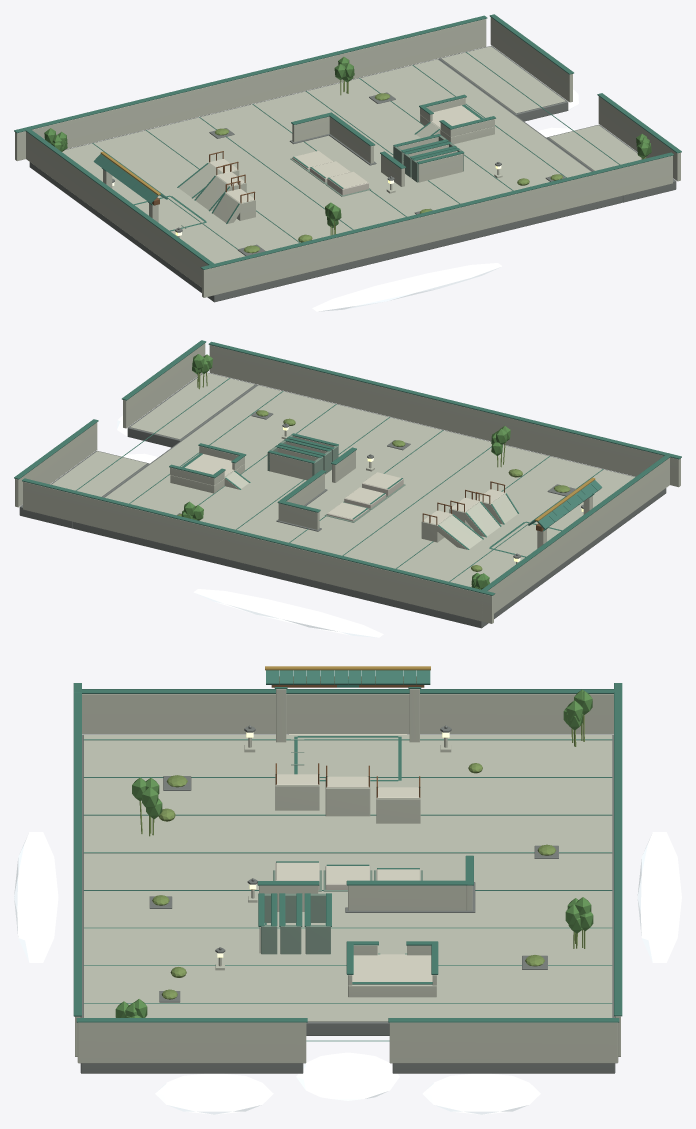
Rendered from ground_contact_course.glb.
3 renders of one model, top to bottom at view 1: azimuth 30°, elevation 25°; view 2: azimuth 150°, elevation 25°; view 3: azimuth 270°, elevation 25°, orthographic. The views are drawn at different scales.
Parts seen in each view (by area): view 1: ground_ground_main_top, wall_south, wall_north, wall_west, ground_ground_main, ground_ground_east_n_top, mist_04, wall_east_n, ground_ground_east_s_top, wall_north_cap, wall_south_cap, wall_east_s (+14 smaller); view 2: ground_ground_main_top, wall_north, wall_south, wall_west, ground_ground_main, ground_ground_east_s_top, mist_03, ground_ground_east_n_top, wall_east_s, wall_north_cap, wall_south_cap, wall_east_n (+14 smaller); view 3: ground_ground_main_top, wall_west, wall_east_n, wall_east_s, mist_03, mist_04, mist_00, mist_01, mist_02, corner_inner_x, wall_north_cap, wall_south_cap (+21 smaller).
Boxes of the visible parts, box(x1,y1,x2,y2) form: ground_ground_main_top: box(62, 59, 590, 263); wall_south: box(202, 155, 672, 297); wall_north: box(15, 19, 486, 160); wall_west: box(26, 131, 214, 287); ground_ground_main: box(29, 59, 622, 302); ground_ground_east_n_top: box(441, 46, 565, 113); mist_04: box(312, 263, 502, 311); wall_east_n: box(490, 17, 572, 102); ground_ground_east_s_top: box(549, 125, 673, 180); wall_north_cap: box(14, 15, 487, 133); wall_south_cap: box(200, 152, 673, 269); wall_east_s: box(598, 96, 680, 181); ground_ground_main_top: box(105, 385, 634, 587); wall_north: box(23, 481, 493, 623); wall_south: box(209, 345, 680, 487); wall_west: box(480, 458, 669, 620); ground_ground_main: box(73, 385, 666, 628); ground_ground_east_s_top: box(130, 373, 254, 439); mist_03: box(193, 589, 383, 637); ground_ground_east_n_top: box(22, 451, 146, 506); wall_east_s: box(123, 343, 205, 428); wall_north_cap: box(22, 478, 495, 595); wall_south_cap: box(208, 341, 681, 459); wall_east_n: box(15, 422, 97, 507); ground_ground_main_top: box(83, 735, 612, 1021); wall_west: box(82, 694, 613, 734); wall_east_n: box(389, 1022, 618, 1063); wall_east_s: box(77, 1022, 306, 1063); mist_03: box(637, 832, 681, 962); mist_04: box(14, 832, 58, 962); mist_00: box(296, 1052, 399, 1100); mist_01: box(422, 1073, 540, 1114); mist_02: box(155, 1073, 273, 1114); corner_inner_x: box(348, 885, 466, 910); wall_north_cap: box(614, 683, 622, 1016); wall_south_cap: box(73, 683, 81, 1016).
Size of the model in its own units: 57.33 by 8.91 by 45.
